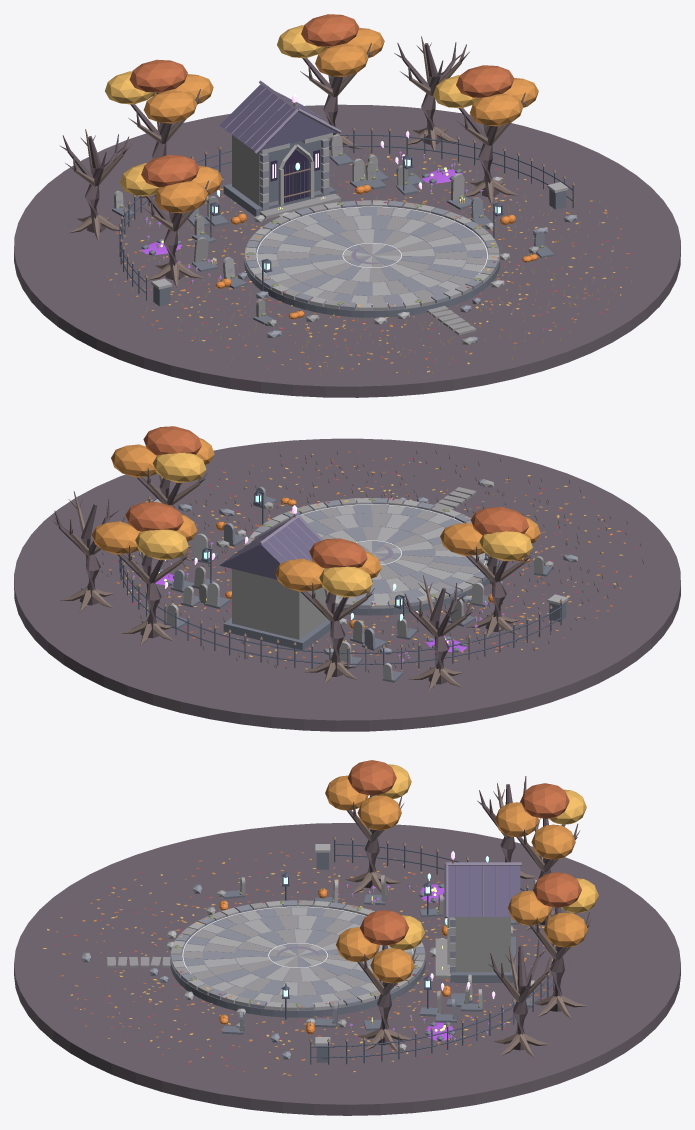
Rendered from autumn-graveyard.glb.
3 views of the same model, one above another, from view 1: azimuth 30°, elevation 25°; view 2: azimuth 150°, elevation 25°; view 3: azimuth 270°, elevation 25° (orthographic).
Parts seen in each view (by area): view 1: 01 Battlefield | Graveyard | Autumn earth, 01 Battlefield | Graveyard | Lavender slate, 01 Battlefield | Graveyard | Weathered stone, 04 Twisted trees | Graveyard | Amber leaves, 01 Battlefield | Graveyard | Pale gravestone, 04 Twisted trees | Graveyard | Dark bark, 04 Twisted trees | Graveyard | Copper leaves, 04 Twisted trees | Graveyard | Bark ridges, 02 Mausoleum | Graveyard | Purple roof slate, 04 Twisted trees | Graveyard | Gold leaves, 03 Graves and fence | Graveyard | Charcoal masonry, 05 Autumn gardens | Graveyard | Amber leaves (+14 smaller); view 2: 01 Battlefield | Graveyard | Autumn earth, 04 Twisted trees | Graveyard | Amber leaves, 04 Twisted trees | Graveyard | Dark bark, 04 Twisted trees | Graveyard | Copper leaves, 01 Battlefield | Graveyard | Lavender slate, 04 Twisted trees | Graveyard | Gold leaves, 04 Twisted trees | Graveyard | Bark ridges, 02 Mausoleum | Graveyard | Weathered stone, 01 Battlefield | Graveyard | Weathered stone, 01 Battlefield | Graveyard | Pale gravestone, 03 Graves and fence | Graveyard | Old iron, 02 Mausoleum | Graveyard | Purple roof slate (+11 smaller); view 3: 01 Battlefield | Graveyard | Autumn earth, 04 Twisted trees | Graveyard | Amber leaves, 01 Battlefield | Graveyard | Lavender slate, 01 Battlefield | Graveyard | Weathered stone, 01 Battlefield | Graveyard | Pale gravestone, 04 Twisted trees | Graveyard | Copper leaves, 04 Twisted trees | Graveyard | Dark bark, 04 Twisted trees | Graveyard | Bark ridges, 02 Mausoleum | Graveyard | Weathered stone, 02 Mausoleum | Graveyard | Purple roof slate, 05 Autumn gardens | Graveyard | Amber leaves, 04 Twisted trees | Graveyard | Gold leaves (+7 smaller).
Boxes of the visible parts, left/top/right/bottom form: 01 Battlefield | Graveyard | Autumn earth: left=14, top=104, right=680, bottom=397; 01 Battlefield | Graveyard | Lavender slate: left=246, top=200, right=498, bottom=310; 01 Battlefield | Graveyard | Weathered stone: left=245, top=200, right=499, bottom=335; 04 Twisted trees | Graveyard | Amber leaves: left=143, top=28, right=538, bottom=213; 01 Battlefield | Graveyard | Pale gravestone: left=245, top=200, right=499, bottom=310; 04 Twisted trees | Graveyard | Dark bark: left=59, top=42, right=528, bottom=279; 04 Twisted trees | Graveyard | Copper leaves: left=129, top=14, right=514, bottom=187; 04 Twisted trees | Graveyard | Bark ridges: left=68, top=36, right=525, bottom=287; 02 Mausoleum | Graveyard | Purple roof slate: left=219, top=84, right=336, bottom=151; 04 Twisted trees | Graveyard | Gold leaves: left=105, top=25, right=479, bottom=196; 03 Graves and fence | Graveyard | Charcoal masonry: left=112, top=153, right=566, bottom=325; 05 Autumn gardens | Graveyard | Amber leaves: left=109, top=153, right=635, bottom=373; 01 Battlefield | Graveyard | Autumn earth: left=14, top=438, right=680, bottom=731; 04 Twisted trees | Graveyard | Amber leaves: left=92, top=438, right=540, bottom=591; 04 Twisted trees | Graveyard | Dark bark: left=53, top=473, right=532, bottom=684; 04 Twisted trees | Graveyard | Copper leaves: left=125, top=426, right=528, bottom=568; 01 Battlefield | Graveyard | Lavender slate: left=246, top=498, right=498, bottom=608; 04 Twisted trees | Graveyard | Gold leaves: left=135, top=453, right=532, bottom=597; 04 Twisted trees | Graveyard | Bark ridges: left=60, top=468, right=527, bottom=691; 02 Mausoleum | Graveyard | Weathered stone: left=232, top=569, right=326, bottom=639; 01 Battlefield | Graveyard | Weathered stone: left=246, top=487, right=498, bottom=607; 01 Battlefield | Graveyard | Pale gravestone: left=249, top=498, right=488, bottom=608; 03 Graves and fence | Graveyard | Old iron: left=119, top=498, right=561, bottom=671; 02 Mausoleum | Graveyard | Purple roof slate: left=219, top=518, right=325, bottom=579; 01 Battlefield | Graveyard | Autumn earth: left=14, top=823, right=680, bottom=1115; 04 Twisted trees | Graveyard | Amber leaves: left=325, top=775, right=587, bottom=983; 01 Battlefield | Graveyard | Lavender slate: left=171, top=900, right=425, bottom=1010; 01 Battlefield | Graveyard | Weathered stone: left=107, top=900, right=425, bottom=1010; 01 Battlefield | Graveyard | Pale gravestone: left=172, top=900, right=423, bottom=1010; 04 Twisted trees | Graveyard | Copper leaves: left=347, top=760, right=581, bottom=945; 04 Twisted trees | Graveyard | Dark bark: left=346, top=776, right=592, bottom=1050; 04 Twisted trees | Graveyard | Bark ridges: left=345, top=783, right=589, bottom=1057; 02 Mausoleum | Graveyard | Weathered stone: left=435, top=917, right=510, bottom=979; 02 Mausoleum | Graveyard | Purple roof slate: left=448, top=865, right=520, bottom=916; 05 Autumn gardens | Graveyard | Amber leaves: left=43, top=851, right=553, bottom=1075; 04 Twisted trees | Graveyard | Gold leaves: left=376, top=764, right=598, bottom=950.
Size of the model in its own units: 54 by 12.77 by 54.
